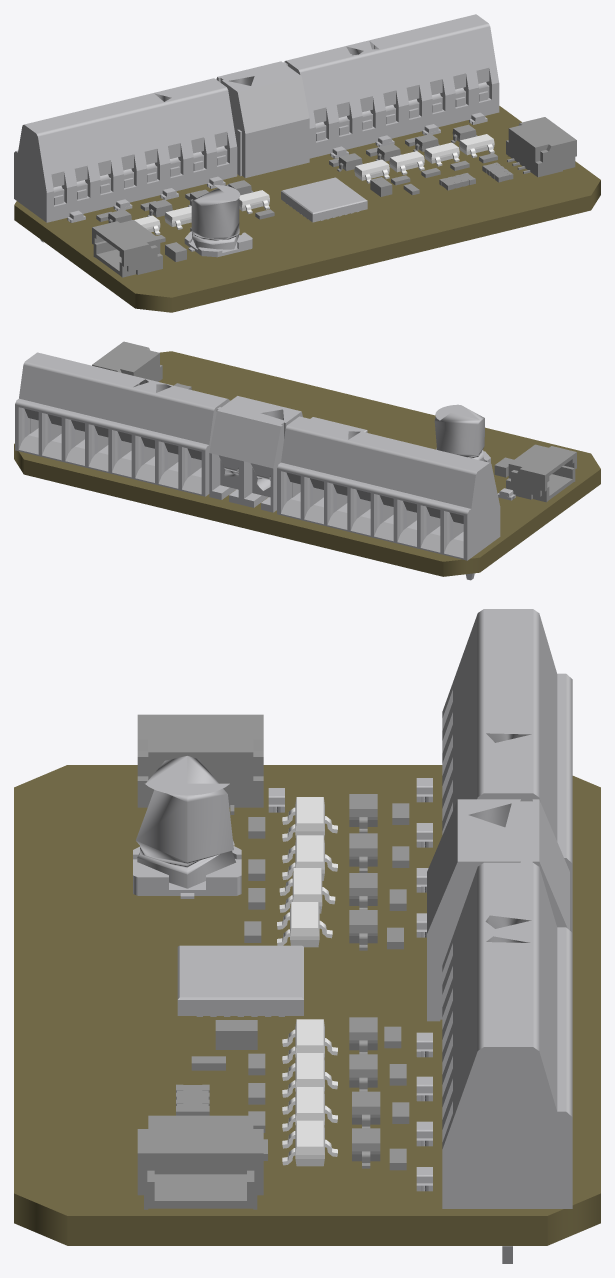
The model's file is ada-6318.glb.
The picture shows the model from 3 angles, top to bottom: view 1: azimuth 30°, elevation 25°; view 2: azimuth 150°, elevation 25°; view 3: azimuth 270°, elevation 25°; orthographic projection. The views are drawn at different scales.
Visible parts, largest first — view 1: 0.5833333333333334_0.5833333333333334_0.5833333333333334_0.8, 0.16666666666666666_0.16666666666666666_0.08333333333333333_, 0.3333333333333333_0.3333333333333333_0.3333333333333333_0, 0.9166666666666666_0.9166666666666666_0.9166666666666666_0.8; view 2: 0.5833333333333334_0.5833333333333334_0.5833333333333334_0.8, 0.16666666666666666_0.16666666666666666_0.08333333333333333_, 0.3333333333333333_0.3333333333333333_0.3333333333333333_0; view 3: 0.16666666666666666_0.16666666666666666_0.08333333333333333_, 0.5833333333333334_0.5833333333333334_0.5833333333333334_0.8, 0.3333333333333333_0.3333333333333333_0.3333333333333333_0, 0.9166666666666666_0.9166666666666666_0.9166666666666666_0.8.
Boxes of the visible parts, <box> form: 0.5833333333333334_0.5833333333333334_0.5833333333333334_0.8: <box>14,14,499,257</box>; 0.16666666666666666_0.16666666666666666_0.08333333333333333_: <box>14,106,600,312</box>; 0.3333333333333333_0.3333333333333333_0.3333333333333333_0: <box>92,117,576,277</box>; 0.9166666666666666_0.9166666666666666_0.9166666666666666_0.8: <box>134,134,494,235</box>; 0.5833333333333334_0.5833333333333334_0.5833333333333334_0.8: <box>15,352,515,580</box>; 0.16666666666666666_0.16666666666666666_0.08333333333333333_: <box>14,351,600,576</box>; 0.3333333333333333_0.3333333333333333_0.3333333333333333_0: <box>92,341,576,502</box>; 0.16666666666666666_0.16666666666666666_0.08333333333333333_: <box>14,765,600,1245</box>; 0.5833333333333334_0.5833333333333334_0.5833333333333334_0.8: <box>133,609,572,1263</box>; 0.3333333333333333_0.3333333333333333_0.3333333333333333_0: <box>137,714,409,1209</box>; 0.9166666666666666_0.9166666666666666_0.9166666666666666_0.8: <box>277,797,337,1166</box>.
Size of the model in its own units: 5.08 by 1.2 by 2.79.
